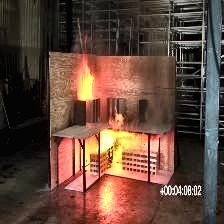fire: (69, 40, 111, 112), (94, 118, 139, 165)
